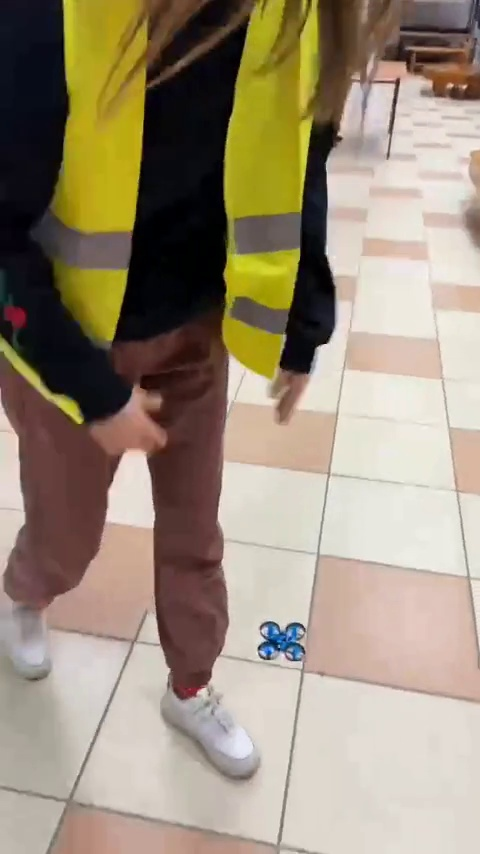drone: (254, 620, 312, 662)
vest: (1, 2, 352, 760)
